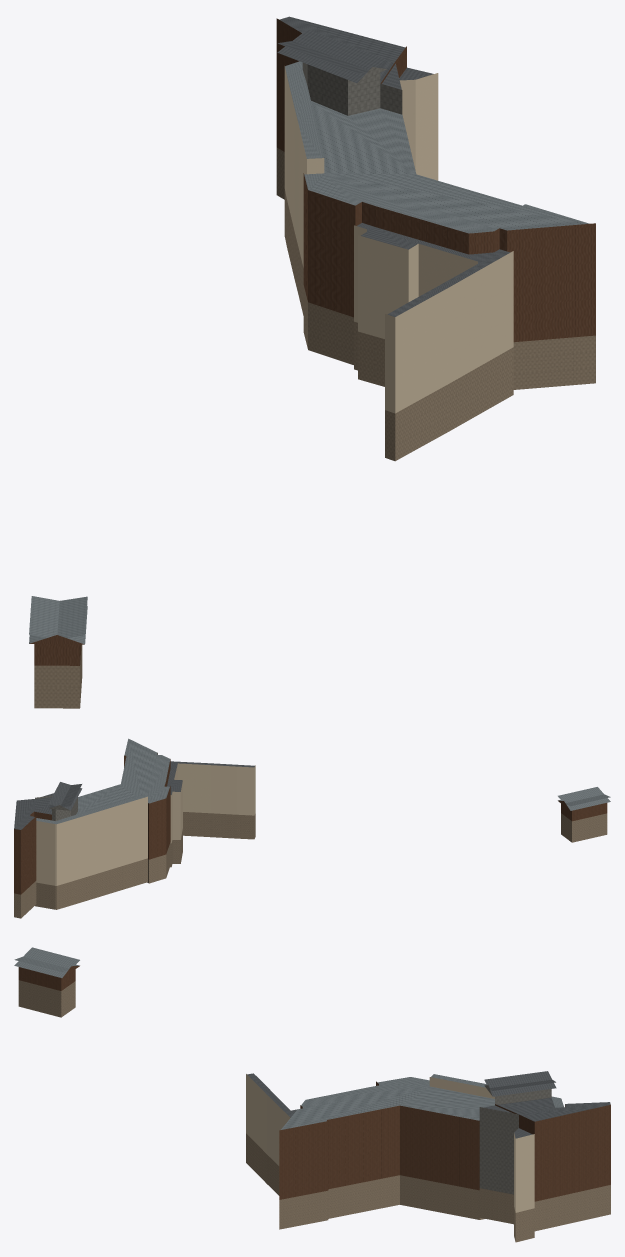
The model's file is bld_c-2_0_537.gltf.
3 renders of one model, top to bottom at view 1: azimuth 30°, elevation 25°; view 2: azimuth 150°, elevation 25°; view 3: azimuth 270°, elevation 25°, orthographic. The views are drawn at different scales.
Visible parts, largest first — view 1: bld_c-2_0_537; view 2: bld_c-2_0_537; view 3: bld_c-2_0_537.
Part boxes in pixels (bbox=[...]): bld_c-2_0_537: bbox=[29, 16, 595, 708]; bld_c-2_0_537: bbox=[14, 738, 610, 918]; bld_c-2_0_537: bbox=[14, 947, 610, 1242].
Bounding box in the file's own units: 89.27 × 22.5 × 93.15.
9 materials, 9 textured.
